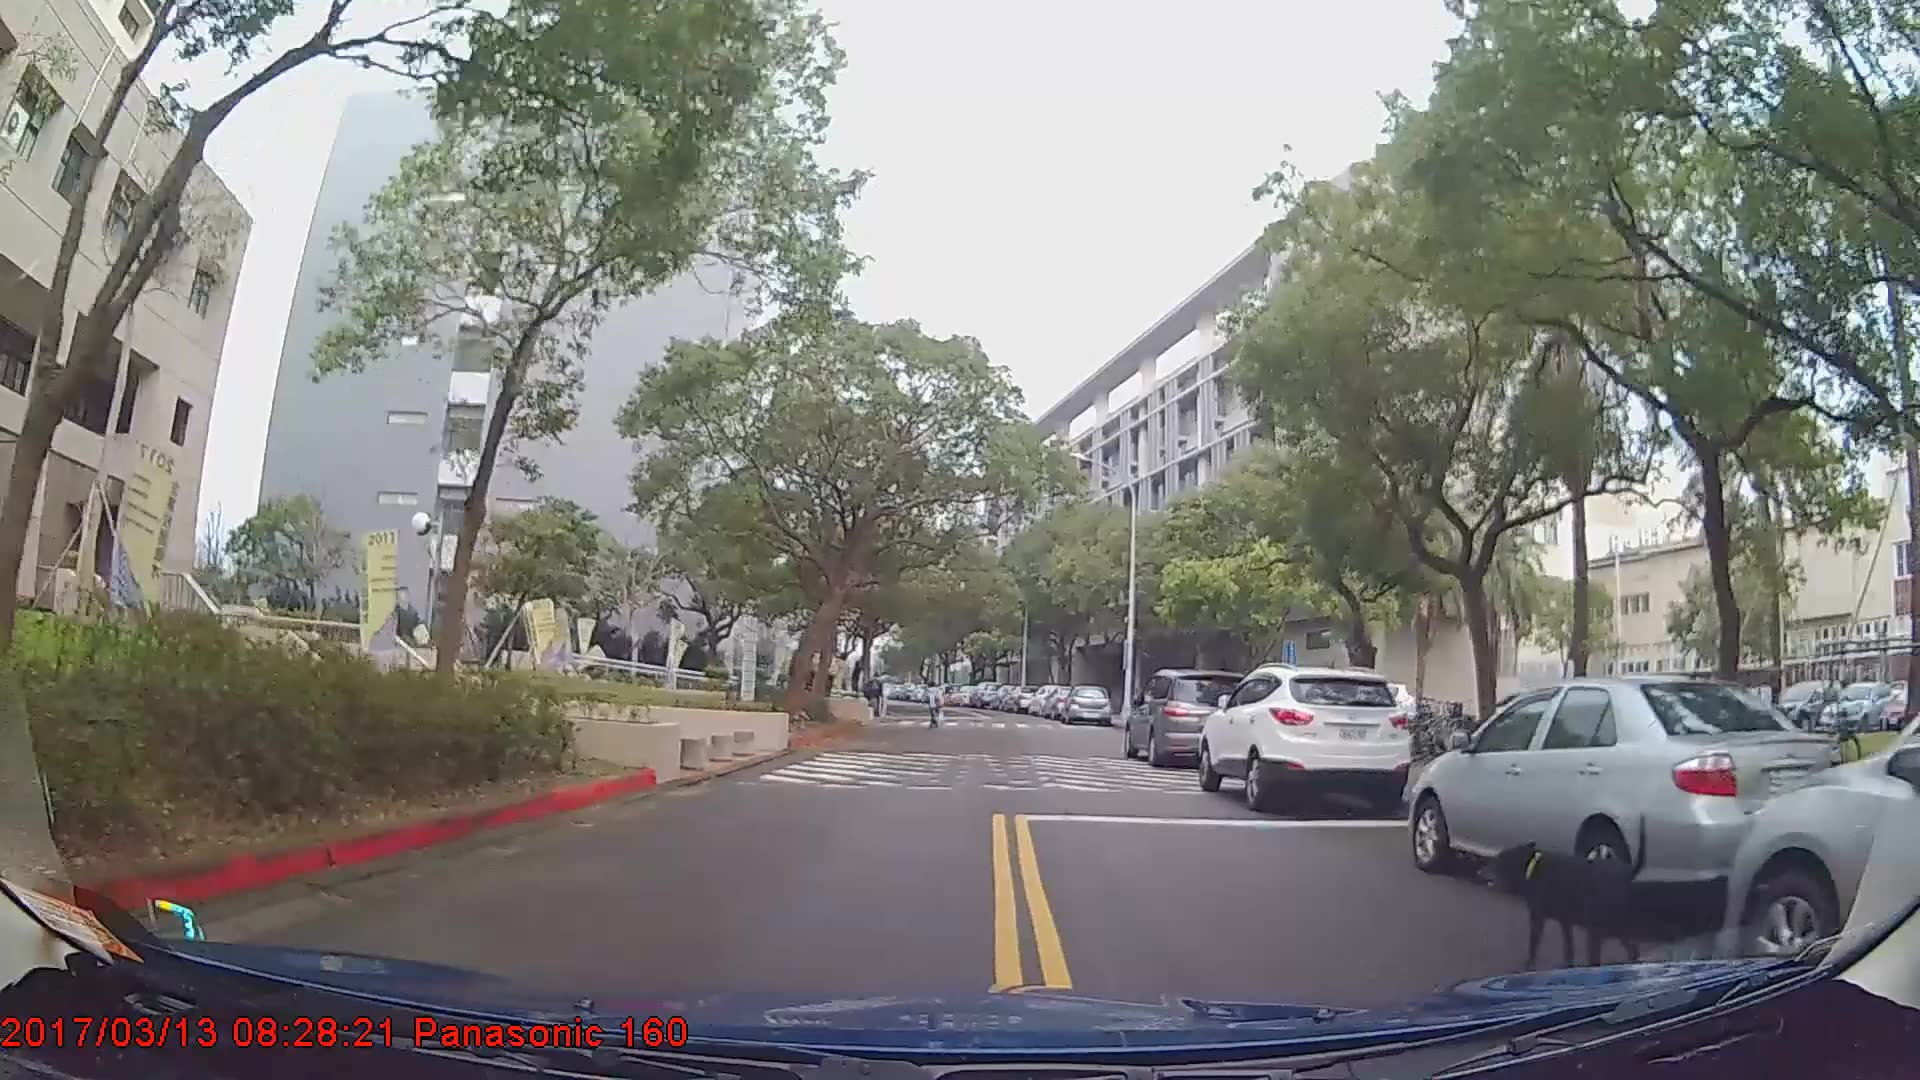pedestrian: (919, 681, 945, 732), (865, 674, 888, 722)
vehicle: (1404, 673, 1847, 912), (1720, 707, 1920, 1005), (1195, 663, 1414, 815), (1123, 669, 1259, 765), (1063, 680, 1110, 725), (968, 679, 1001, 709)
